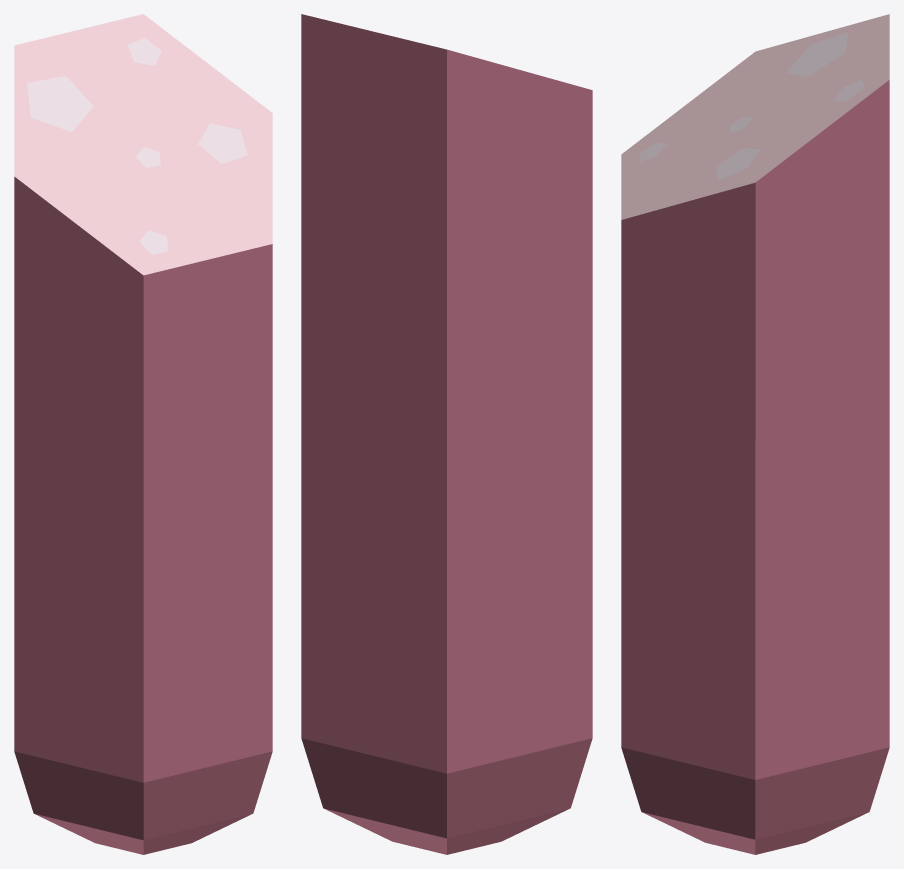
Rendered from Sausage.fbx.
The picture shows the model from 3 angles, left to right: view 1: azimuth 30°, elevation 25°; view 2: azimuth 150°, elevation 25°; view 3: azimuth 270°, elevation 25°; orthographic projection. The views are drawn at different scales.
Parts seen in each view (by area): view 1: Sausage; view 2: Sausage; view 3: Sausage.
Part boxes in pixels (box(x1,y1,x2,y2)): Sausage: box(14, 14, 272, 854); Sausage: box(301, 14, 592, 854); Sausage: box(621, 14, 889, 854).
Size of the model in its own units: 8 by 22.3 by 6.93.
